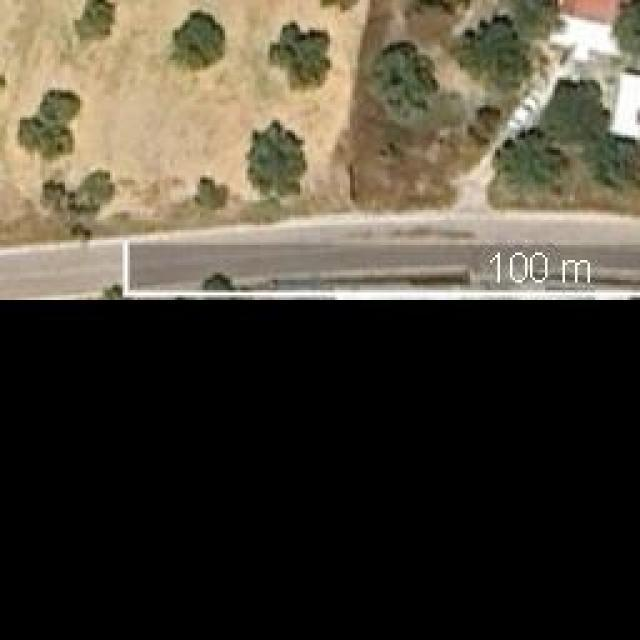Tree: (477, 130, 565, 203), (365, 40, 438, 118), (450, 18, 528, 91), (538, 78, 608, 153), (248, 120, 308, 195), (18, 90, 83, 158), (268, 22, 331, 90), (170, 13, 228, 73), (72, 0, 117, 42), (73, 175, 113, 220), (615, 0, 640, 62), (192, 175, 230, 208), (35, 178, 65, 208)
